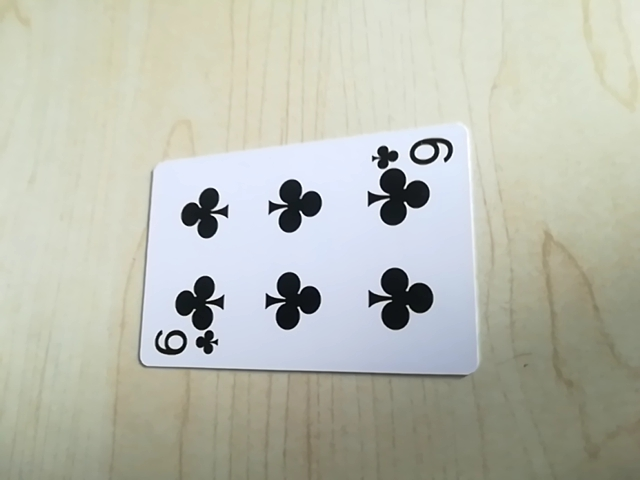mh 6: (371, 133, 456, 170), (149, 327, 219, 361)
